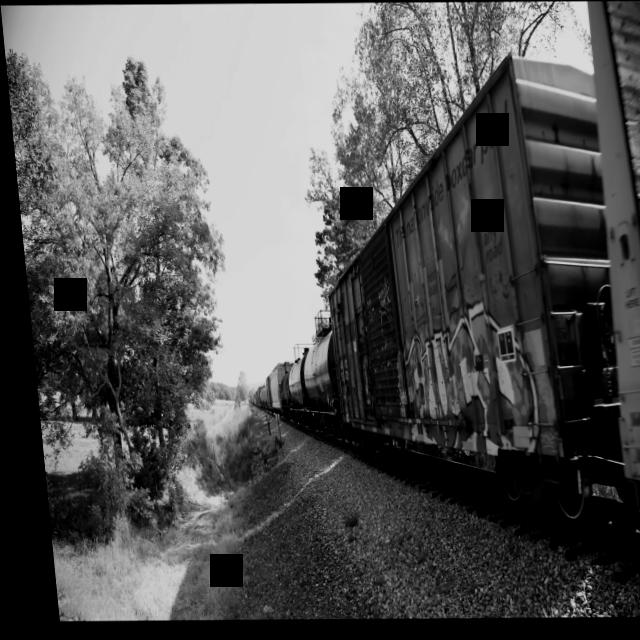boxcar: (300, 44, 624, 530)
tank: (289, 323, 337, 445)
